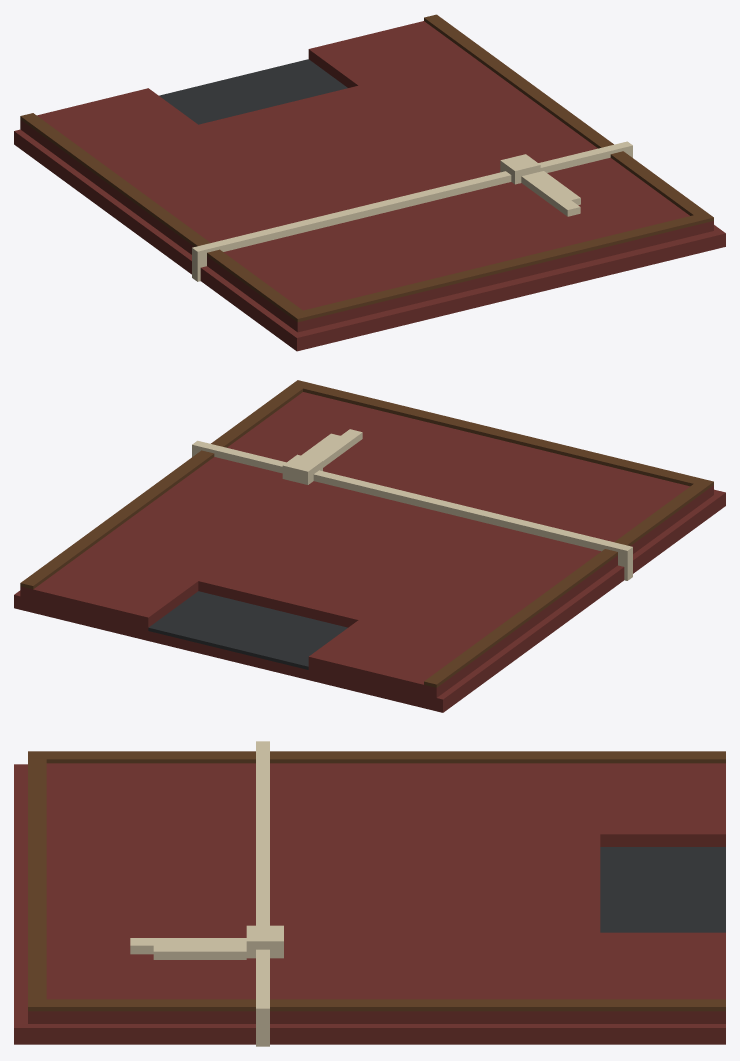
File: carpet_cuirass.glb
3 renders of one model, top to bottom at view 1: azimuth 30°, elevation 25°; view 2: azimuth 150°, elevation 25°; view 3: azimuth 270°, elevation 25°, orthographic. The views are drawn at different scales.
Visible parts, largest first — view 1: carpet_cuirass:compound; view 2: carpet_cuirass:compound; view 3: carpet_cuirass:compound.
Boxes of the visible parts, x1,y1,x2,y2 form: carpet_cuirass:compound: (14, 14, 725, 351); carpet_cuirass:compound: (14, 380, 725, 712); carpet_cuirass:compound: (14, 741, 725, 1046).
Bounding box in the file's own units: 0.544 × 0.044 × 0.612.
